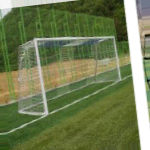goals: (15, 34, 123, 118)
